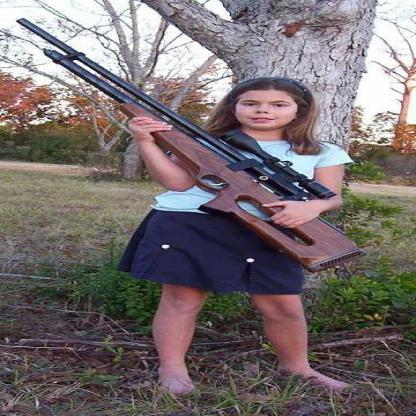rifle: (7, 17, 388, 282)
